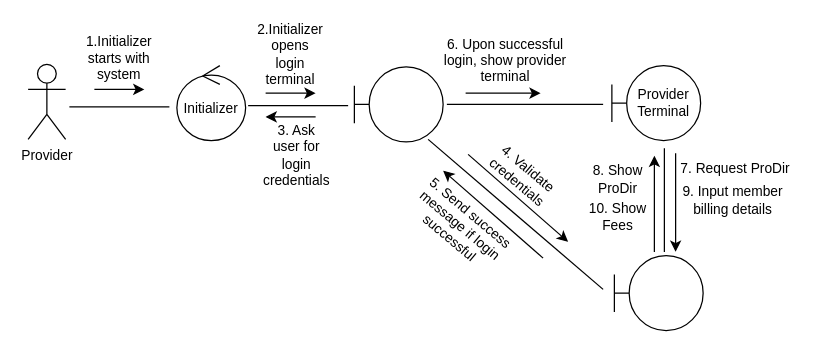
This 820x353 diagram has some shape labels left out. Each missing label, with the centre of its shape:
Database Helper: point 658,292
Login Terminal: point 398,104
